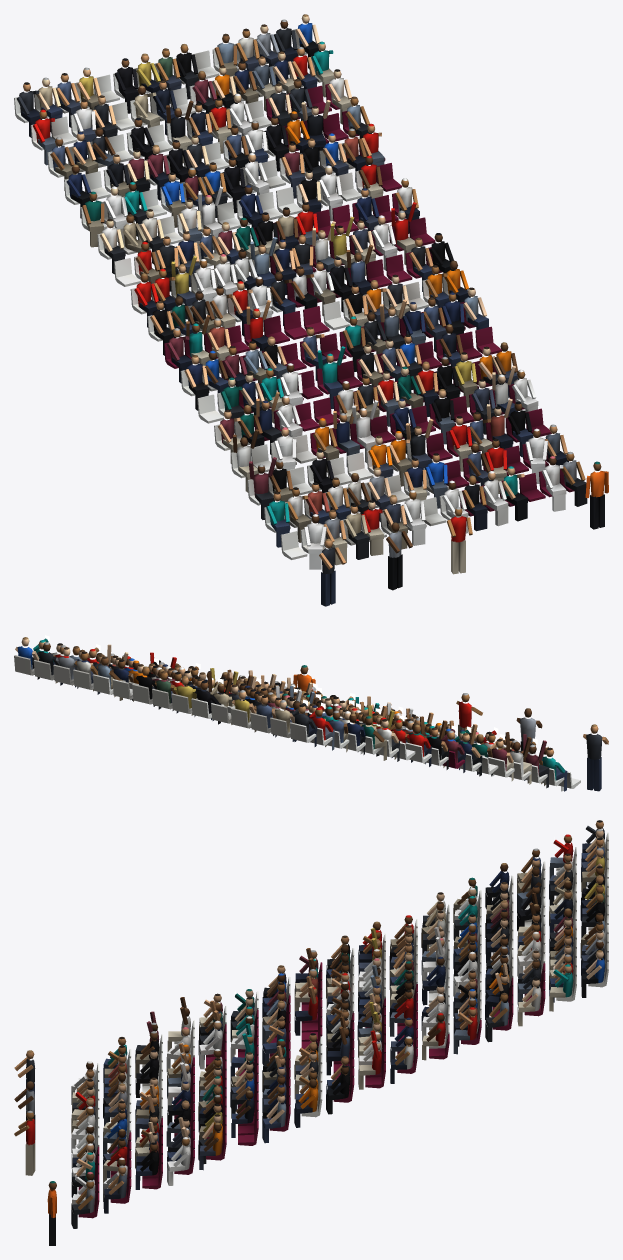
Rendered from stand_T2_kit_7.glb.
The picture shows the model from 3 angles, top to bottom: view 1: azimuth 30°, elevation 25°; view 2: azimuth 150°, elevation 25°; view 3: azimuth 270°, elevation 25°; orthographic projection. The views are drawn at different scales.
Parts seen in each view (by area): view 1: kit_7; view 2: kit_7; view 3: kit_7.
Boxes of the visible parts, x1,y1,x2,y2 form: kit_7: [14, 14, 608, 606]; kit_7: [14, 635, 608, 791]; kit_7: [14, 820, 608, 1245].
Size of the model in its own units: 8.55 by 8.06 by 14.95.
